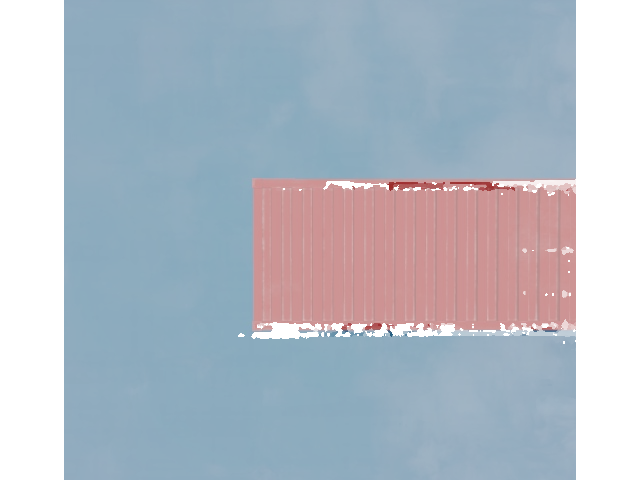container5: (252, 176, 636, 333)
